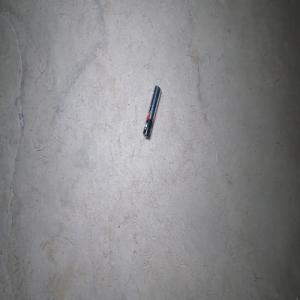Battery: (142, 84, 161, 139)
